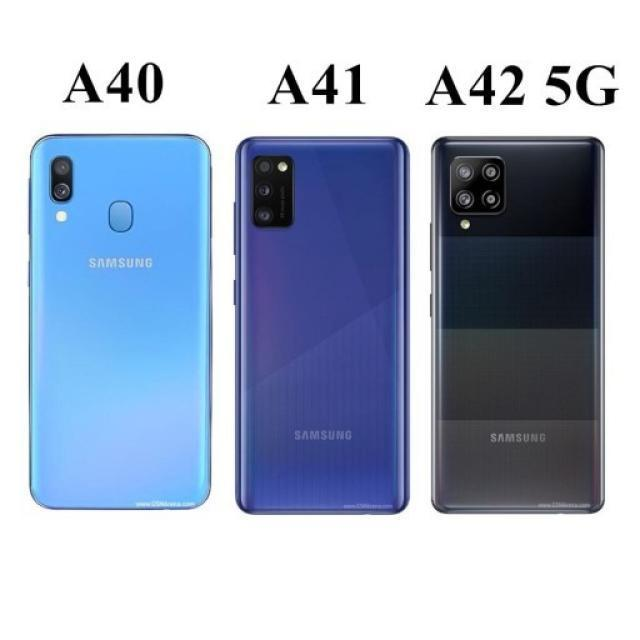phone: (28, 128, 216, 518), (235, 130, 410, 516), (436, 137, 604, 516)
